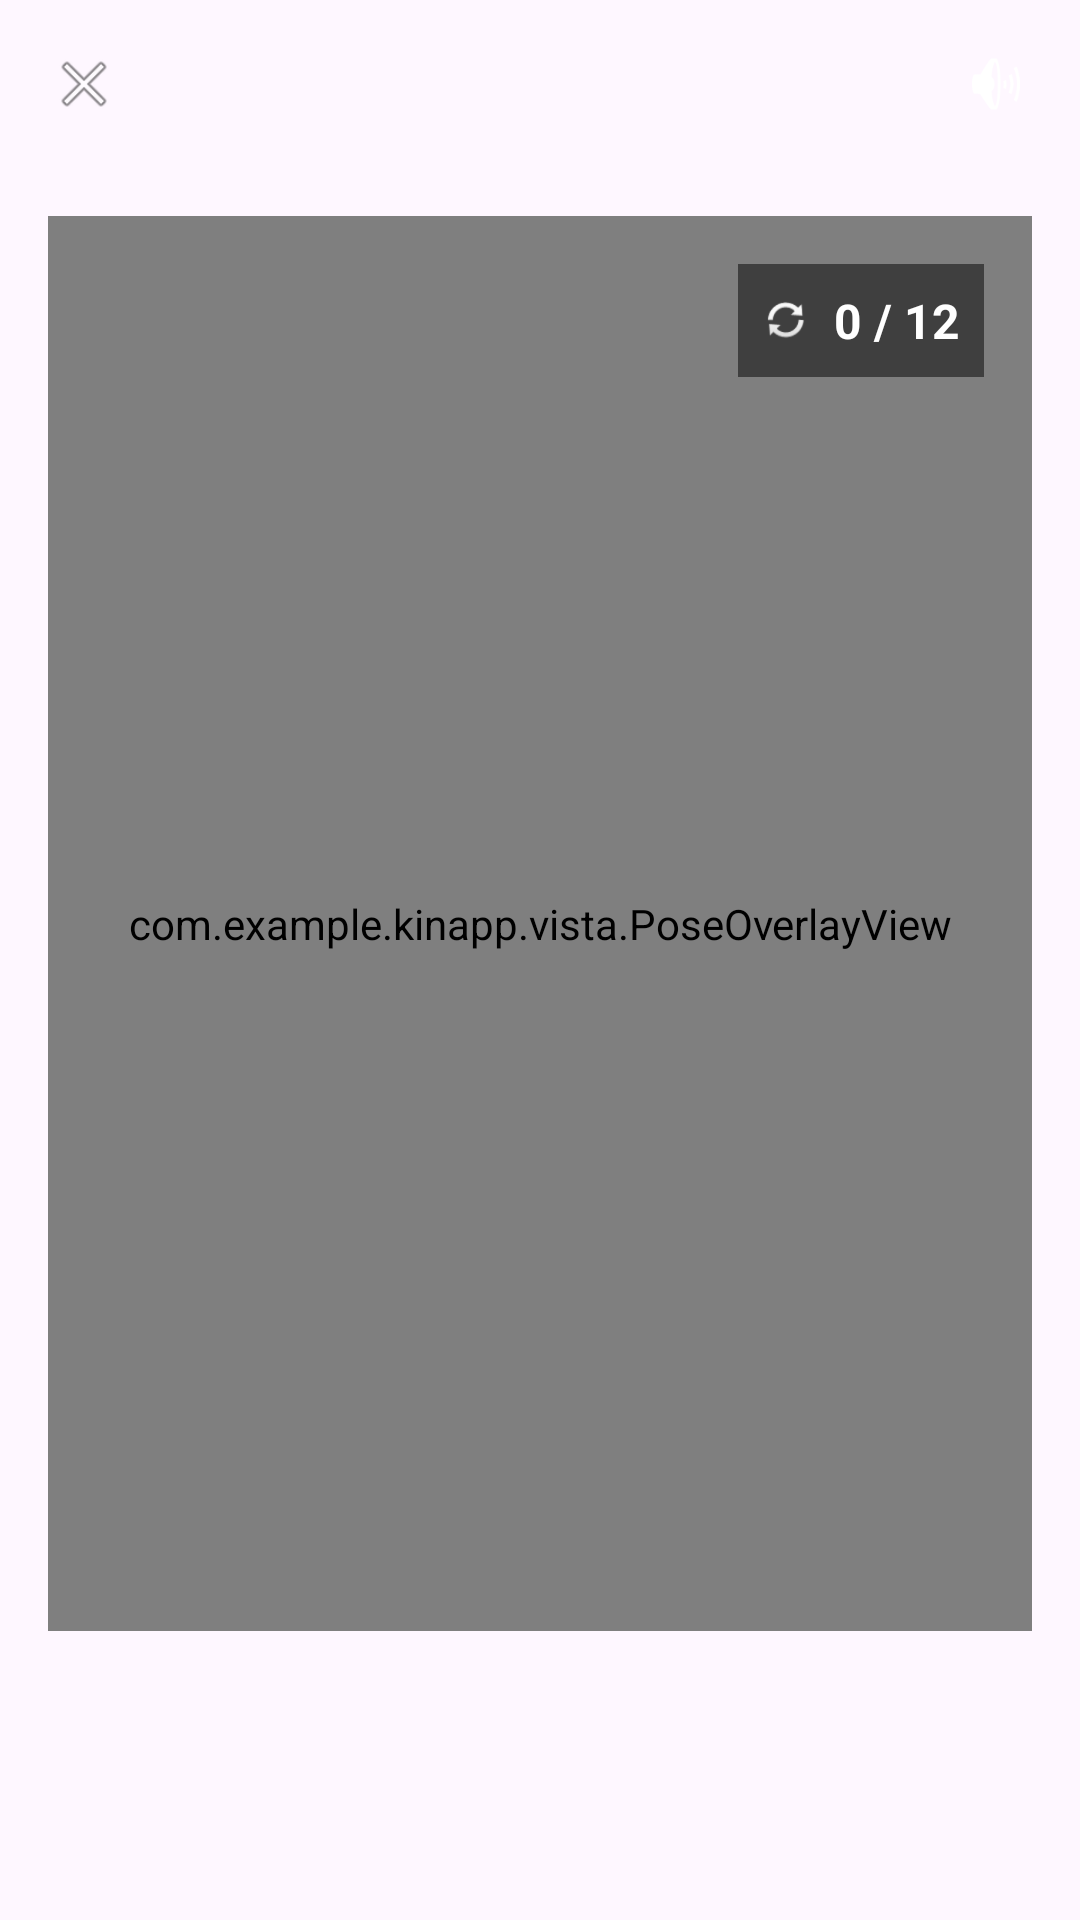

Point at icon controls on the screen. Image size 1080x1920, points as (x,y).
close clear cancel: (84,84)
popup sync: (786,320)
